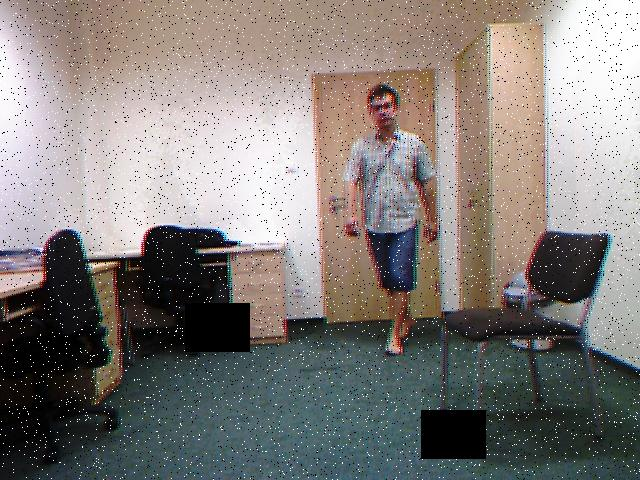walking: (327, 72, 457, 357)
